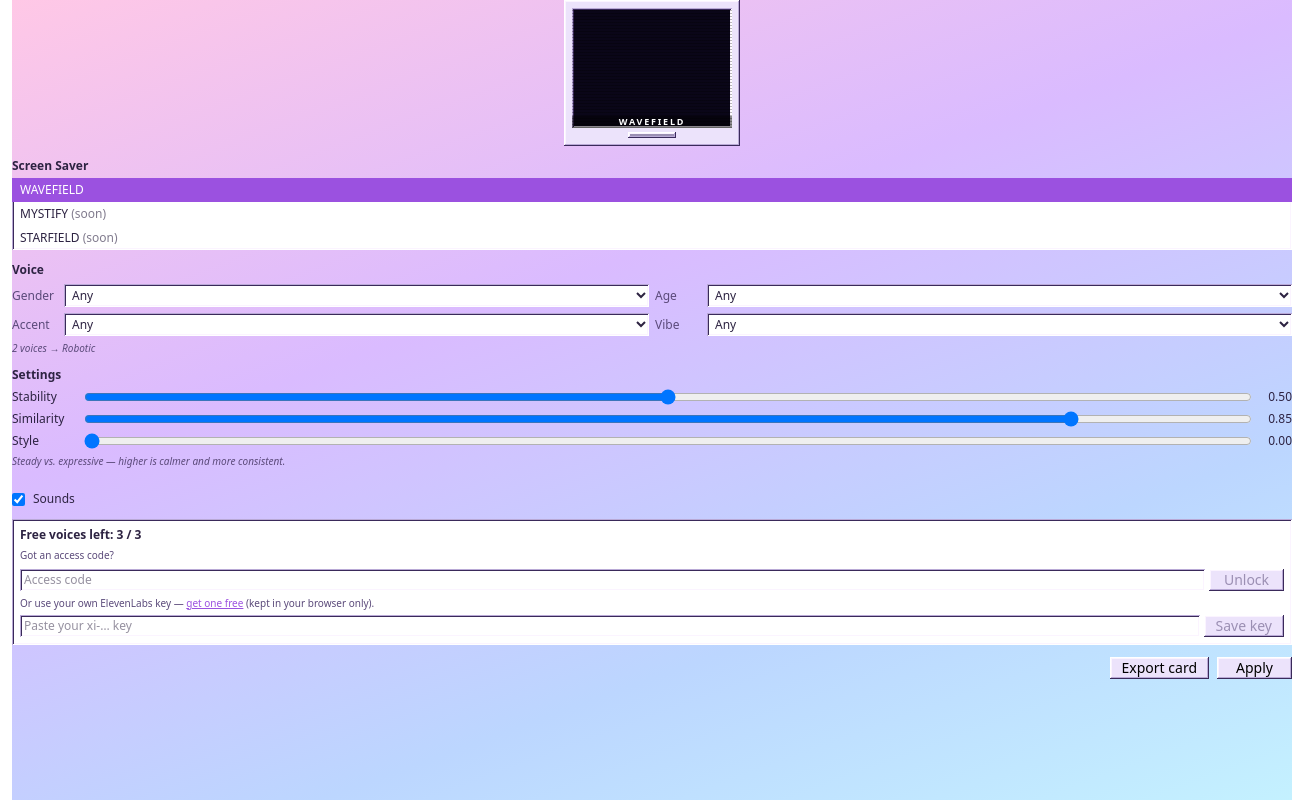
Test: FilterPicker › shows a friendly message on quota errors
Click the button "Apply".
click(1254, 668)  # box [1217,657,1292,679]
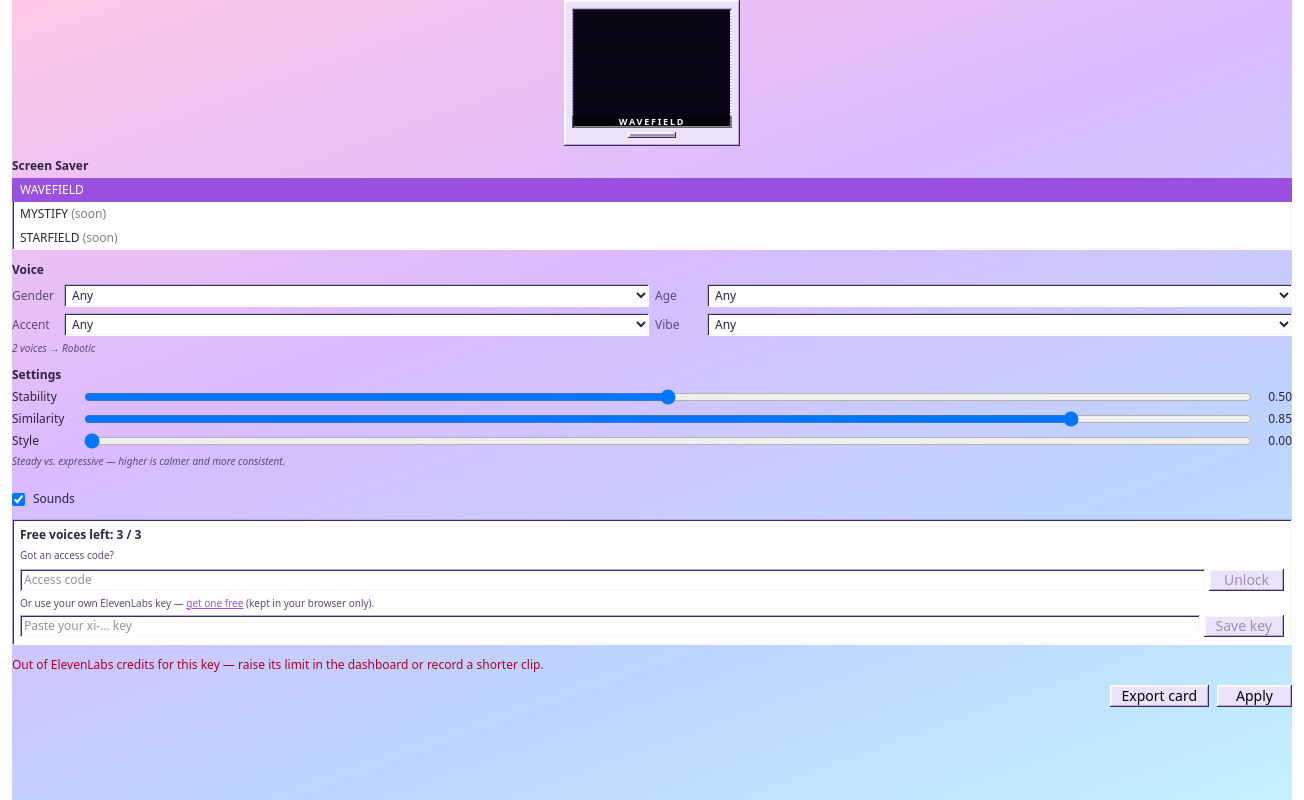
Expected: the text "Out of ElevenLabs credits" is shown, [12,656,544,673]
